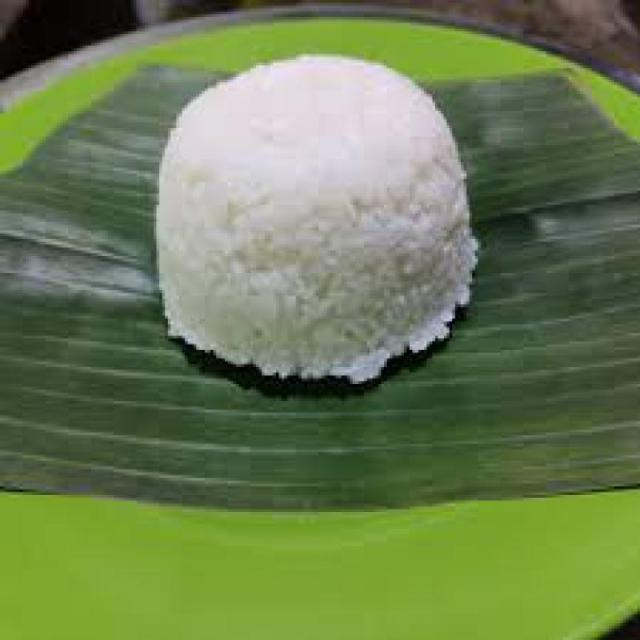nasi_putih: (155, 52, 481, 388)
